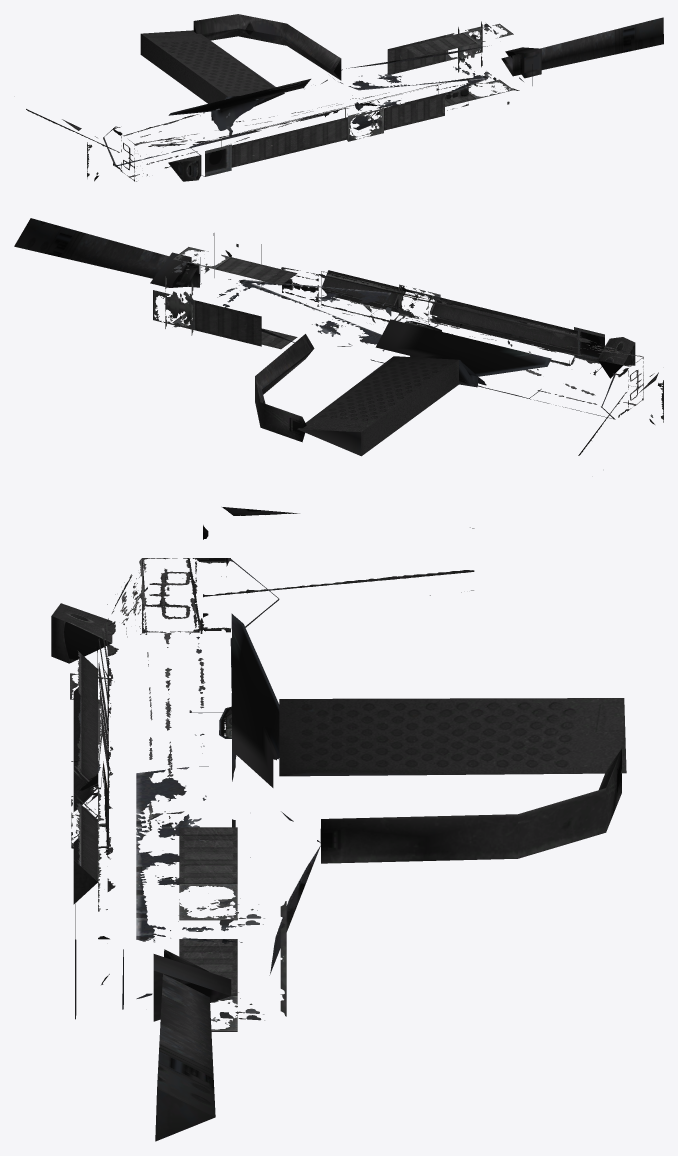
Rendered from t6_wpn_smg_msmc_world_LOD2.obj.
The picture shows the model from 3 angles, top to bottom: view 1: azimuth 30°, elevation 25°; view 2: azimuth 150°, elevation 25°; view 3: azimuth 270°, elevation 25°; orthographic projection. The views are drawn at different scales.
Parts seen in each view (by area): view 1: mtl_t6_wpn_smg_msmc_camo2, mtl_t6_wpn_smg_msmc_camo3, mtl_t6_wpn_smg_msmc_camo1; view 2: mtl_t6_wpn_smg_msmc_camo2, mtl_t6_wpn_smg_msmc_camo1, mtl_t6_wpn_smg_msmc_camo3; view 3: mtl_t6_wpn_smg_msmc_camo2, mtl_t6_wpn_smg_msmc_camo1, mtl_t6_wpn_smg_msmc_camo3.
Boxes of the visible parts, left/top/right/bottom form: mtl_t6_wpn_smg_msmc_camo2: left=26, top=30, right=532, bottom=181; mtl_t6_wpn_smg_msmc_camo3: left=176, top=14, right=513, bottom=167; mtl_t6_wpn_smg_msmc_camo1: left=113, top=17, right=663, bottom=181; mtl_t6_wpn_smg_msmc_camo2: left=184, top=233, right=663, bottom=456; mtl_t6_wpn_smg_msmc_camo1: left=14, top=218, right=643, bottom=417; mtl_t6_wpn_smg_msmc_camo3: left=153, top=247, right=597, bottom=442; mtl_t6_wpn_smg_msmc_camo2: left=70, top=507, right=626, bottom=1019; mtl_t6_wpn_smg_msmc_camo1: left=51, top=558, right=286, bottom=1141; mtl_t6_wpn_smg_msmc_camo3: left=179, top=576, right=621, bottom=1031.
Size of the model in its own units: 50.33 by 4.98 by 21.98.
